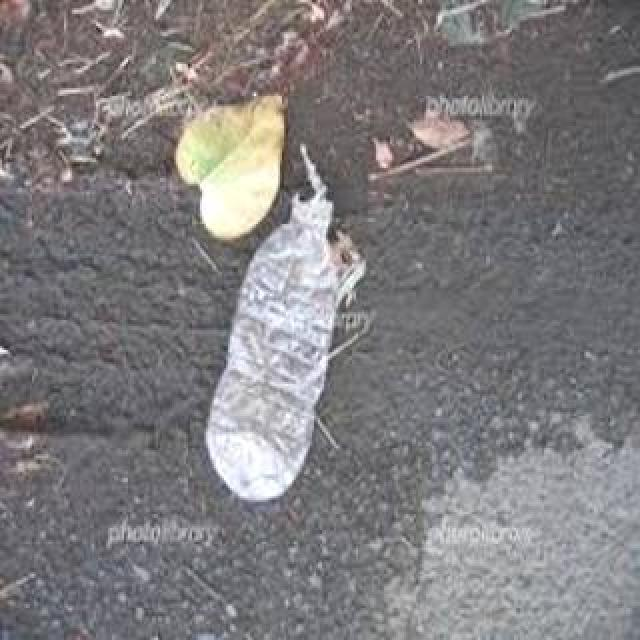Pet_Bottle: (205, 192, 341, 504)
